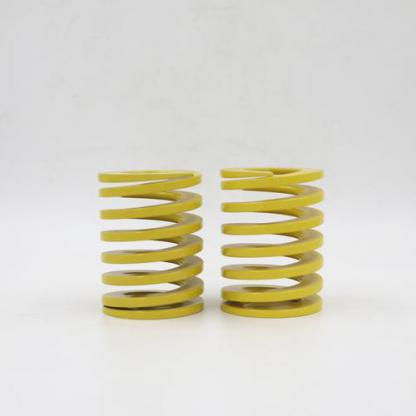FOD: (214, 163, 331, 321), (95, 166, 205, 321)
